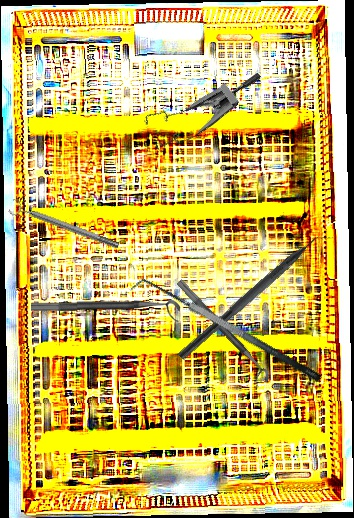Chopper: (177, 223, 337, 371)
Fixation Ring: (167, 278, 274, 390), (7, 196, 122, 256), (30, 299, 181, 325)
Spatula Surgical: (129, 266, 323, 399)
Speculum: (135, 37, 262, 169)
